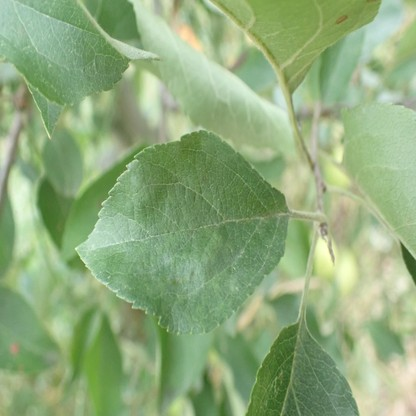frogeye_leaf_spot: (335, 16, 347, 24)
powdery_mildew: (73, 129, 290, 334), (0, 0, 163, 138), (246, 325, 361, 416)
